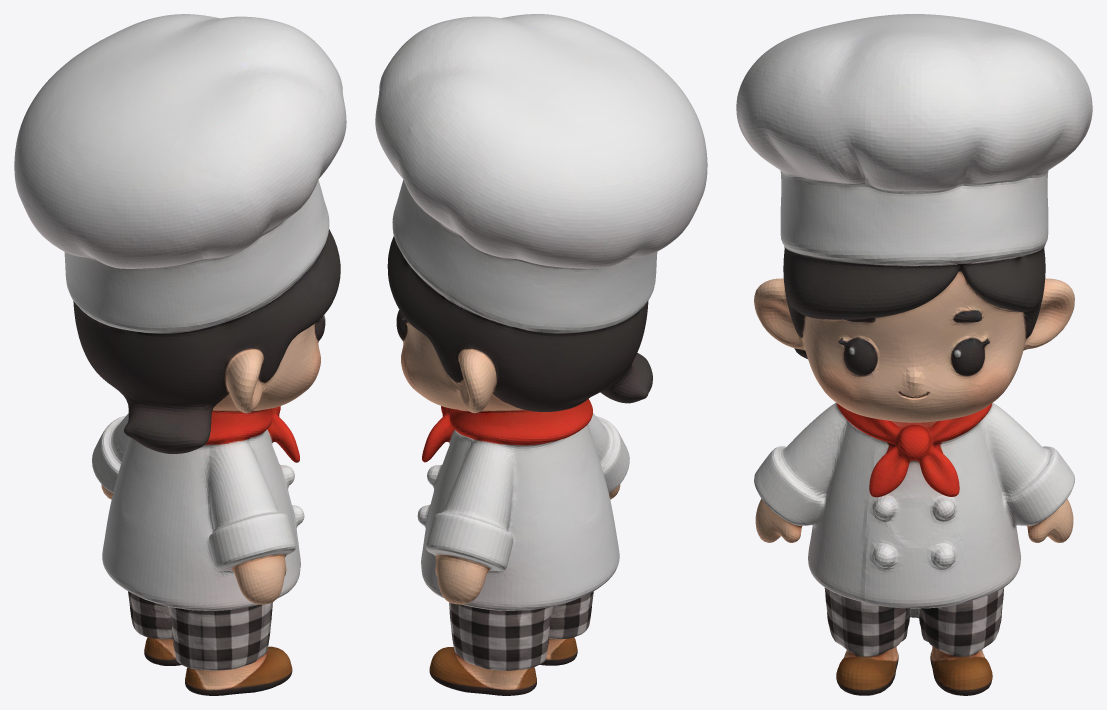
File: female-04.glb
3 views of the same model, side by side, from view 1: azimuth 30°, elevation 25°; view 2: azimuth 150°, elevation 25°; view 3: azimuth 270°, elevation 25° (orthographic). The views are drawn at different scales.
Parts seen in each view (by area): view 1: tripo_node_b39faea5-6645-4436-a9d5-910c245d8b2e; view 2: tripo_node_b39faea5-6645-4436-a9d5-910c245d8b2e; view 3: tripo_node_b39faea5-6645-4436-a9d5-910c245d8b2e.
Boxes of the visible parts, x1,y1,x2,y2 form: tripo_node_b39faea5-6645-4436-a9d5-910c245d8b2e: (14, 14, 346, 695); tripo_node_b39faea5-6645-4436-a9d5-910c245d8b2e: (375, 14, 707, 695); tripo_node_b39faea5-6645-4436-a9d5-910c245d8b2e: (736, 14, 1092, 695).
Bounding box in the file's own units: 0.4782 × 0.9997 × 0.4979.
Materials: 1 (1 with a texture image).
